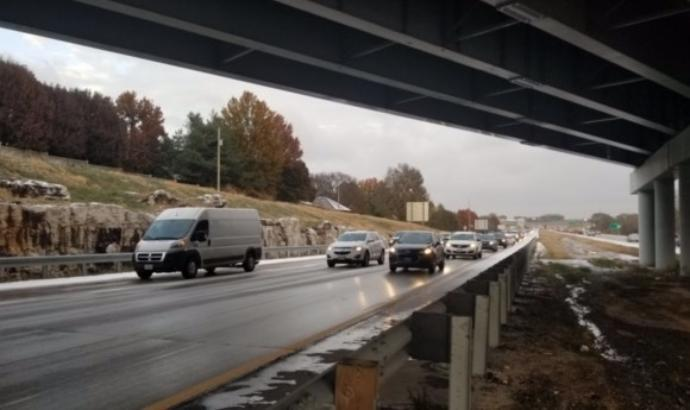car: (135, 201, 269, 282), (387, 230, 444, 288), (321, 229, 383, 277), (446, 223, 491, 264)
